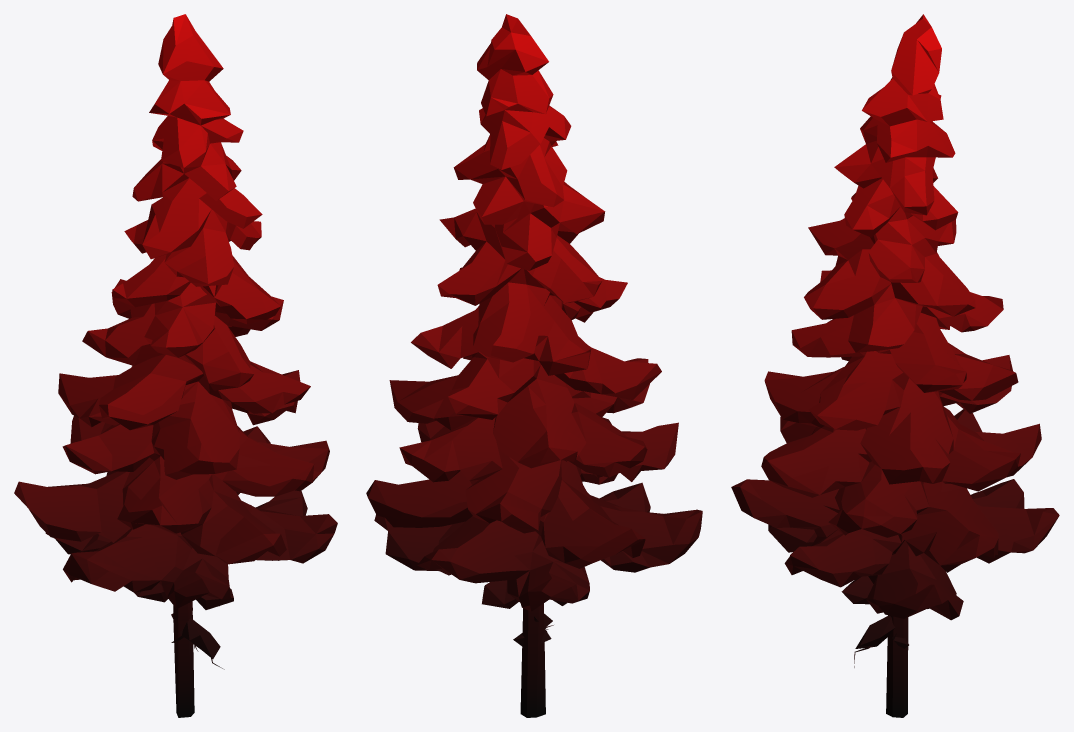
The model's file is TreeSpruce08_Snow.fbx.
3 renders of one model, left to right at view 1: azimuth 30°, elevation 25°; view 2: azimuth 150°, elevation 25°; view 3: azimuth 270°, elevation 25°, orthographic. The views are drawn at different scales.
Visible parts, largest first — view 1: TreeSpruce08_Snow_LOD0; view 2: TreeSpruce08_Snow_LOD0; view 3: TreeSpruce08_Snow_LOD0.
Boxes of the visible parts, x1,y1,x2,y2 form: TreeSpruce08_Snow_LOD0: (14,14,337,717); TreeSpruce08_Snow_LOD0: (366,14,702,717); TreeSpruce08_Snow_LOD0: (731,14,1059,717).
Size of what is drawn, in the model's own units: 185 by 446 by 189.
